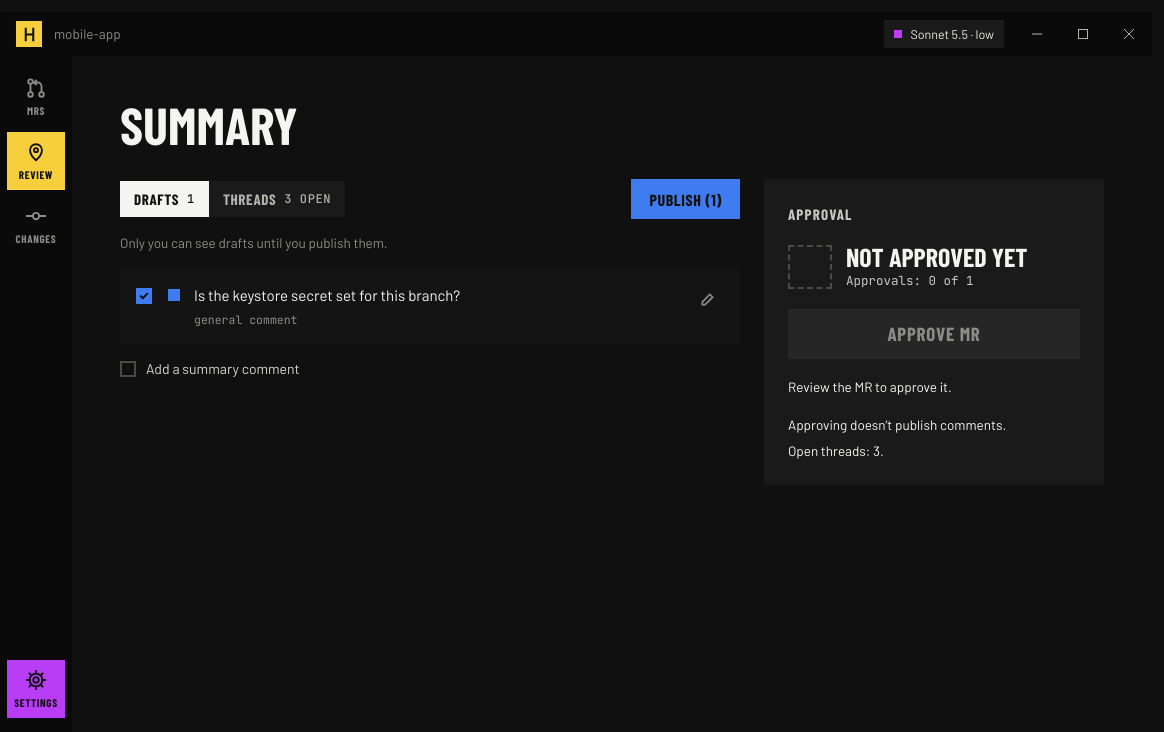
Test case: S-05 Threads tab: Check with Claude (F-13.3) › F-13.3 a drafts-only summary has no Check with Claude: no review worktree to read the commits from
The width and height of the screenshot is (1164, 732).
Click the tab "Threads 3 open".
click(277, 199)  # box x1=209 y1=181 x2=345 y2=217
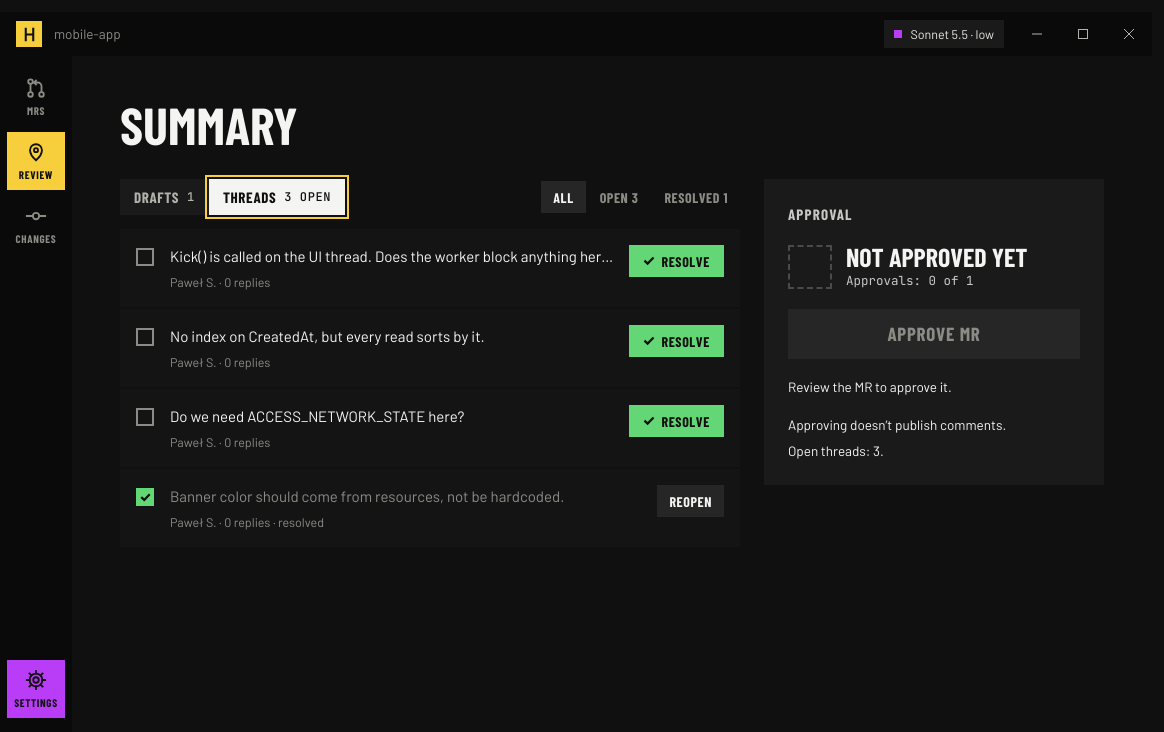
Now the text "No index on CreatedAt, but every read sorts by it." is shown, box x1=170 y1=327 x2=485 y2=345
